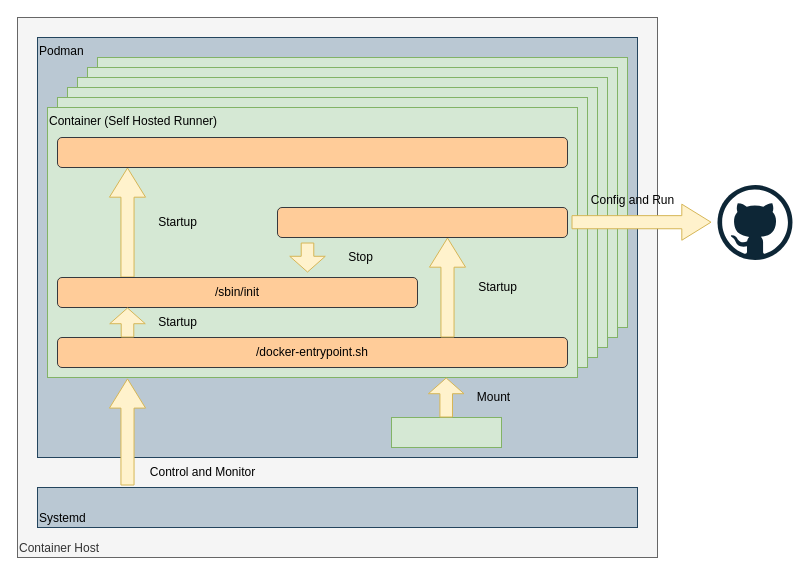
This 810x575 diagram has some shape labels left out. Each missing label, with the centre of its shape:
"Actions Runner" goes at (422,222).
"Docker Daemon" goes at (312,152).
"Secret (PAT)" goes at (446,432).
